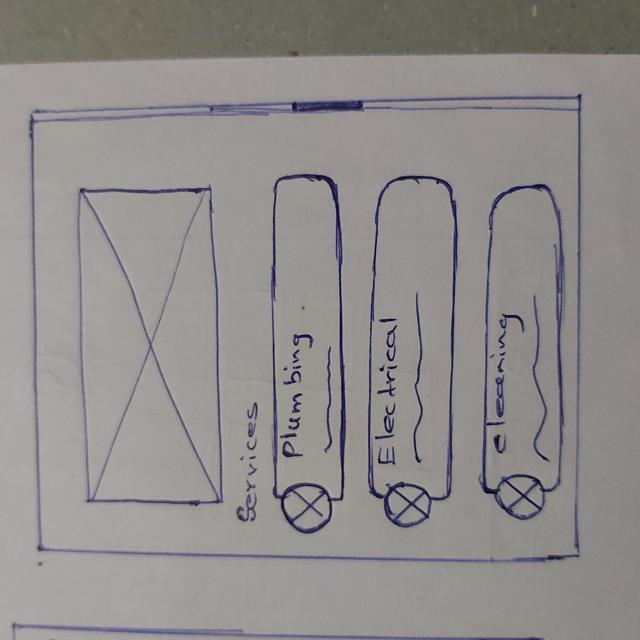CardView: (365, 174, 460, 530), (481, 182, 566, 525), (271, 173, 346, 539)
Image: (74, 185, 226, 503)
ListView: (266, 171, 574, 556)
MainLayout: (26, 92, 590, 564)
RoundedImage: (281, 482, 333, 534), (383, 482, 433, 528), (496, 475, 545, 520)
ScrollBar: (32, 97, 579, 119)
ScrollView: (34, 101, 574, 554)
TextView: (405, 285, 440, 471), (524, 292, 555, 464), (489, 308, 522, 461), (377, 313, 403, 468), (237, 401, 266, 524), (283, 332, 310, 460), (316, 333, 337, 467)
VerticalListView: (268, 170, 576, 554)
